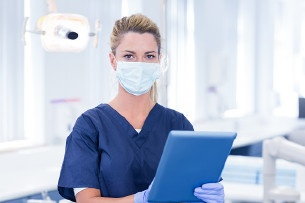Mask: (114, 46, 163, 95)
